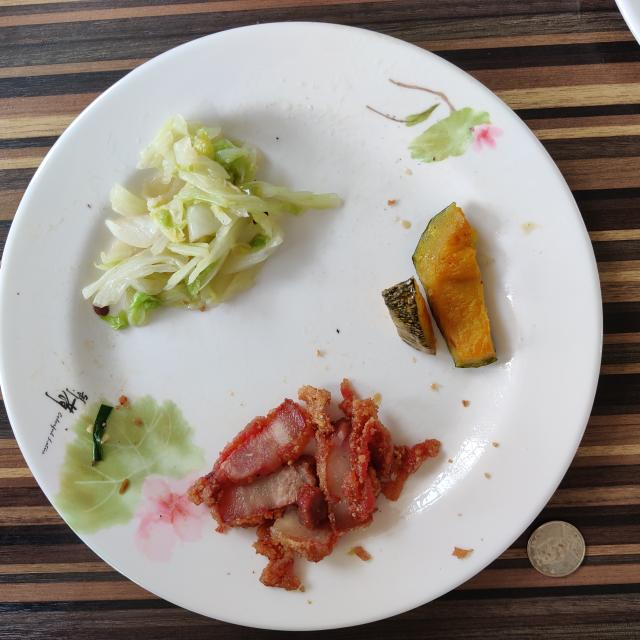cabbage: (82, 115, 341, 330)
coin: (528, 521, 585, 578)
pumpkin: (412, 202, 496, 368), (382, 278, 436, 354)
red grilled pork: (188, 380, 440, 590)
